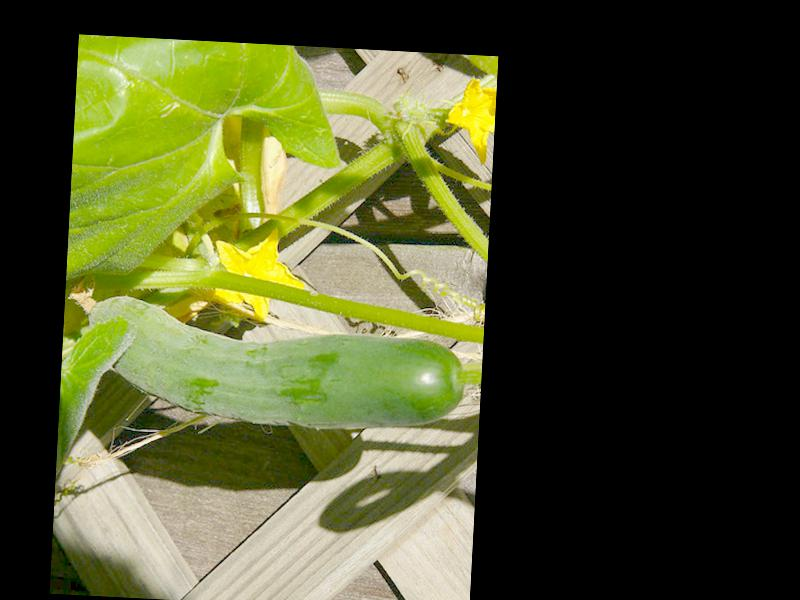Cucumber: (63, 293, 464, 437)
